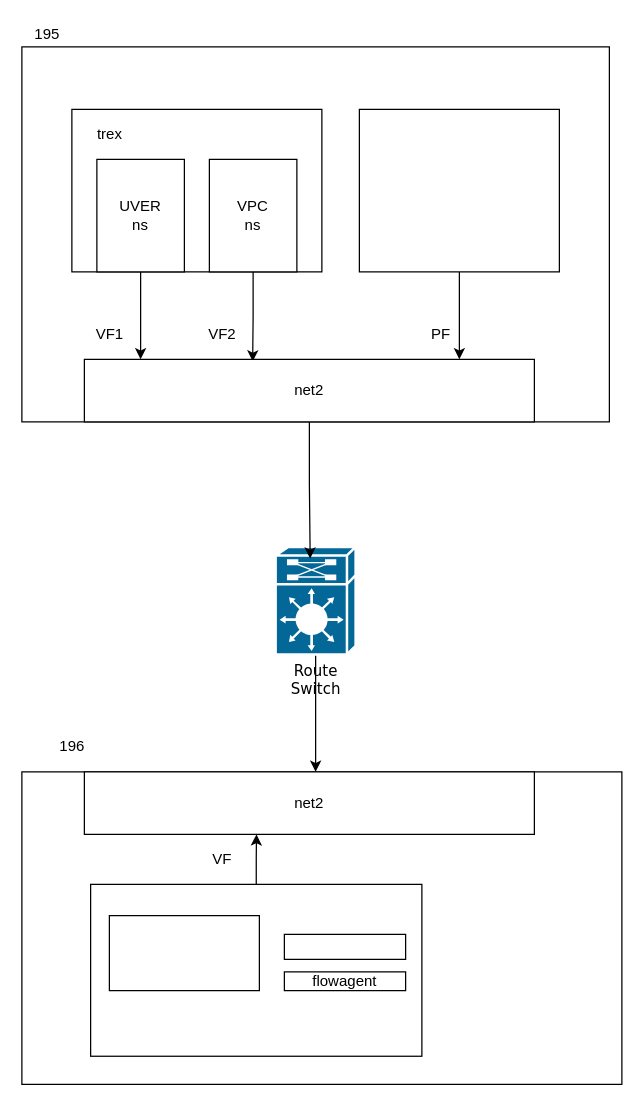
Some shapes in this 644 by 1106 pixel diagram are drawn without their labels. Each missing label, with the box of its shape:
ctagent: (283, 933, 406, 959)
L4FWD: (358, 108, 559, 272)
OVS-DPDK: (108, 914, 259, 991)
